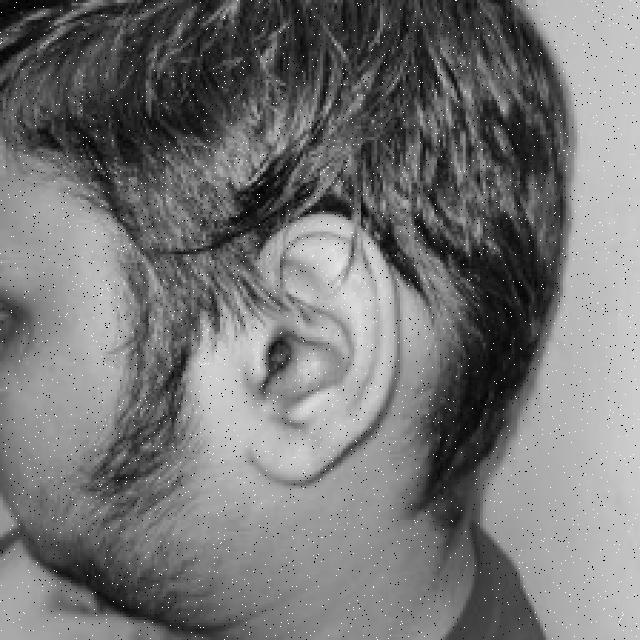ear: (251, 211, 397, 480)
